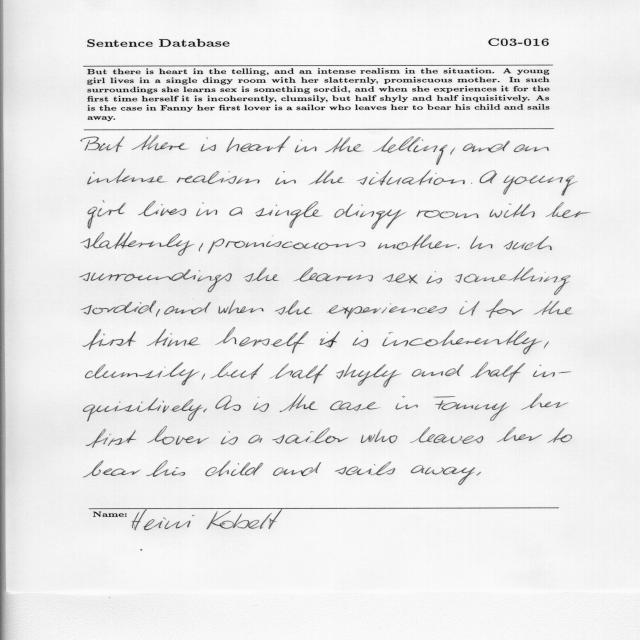word: (383, 330, 543, 354), (80, 269, 232, 292), (456, 267, 571, 295), (85, 362, 200, 386), (84, 398, 204, 421), (81, 232, 194, 256), (215, 327, 309, 353), (208, 239, 366, 254), (373, 136, 447, 165), (327, 303, 447, 319), (433, 396, 509, 421), (256, 201, 323, 228), (334, 204, 406, 229), (357, 170, 465, 185), (336, 364, 402, 388), (503, 175, 578, 196), (273, 427, 349, 444), (411, 465, 475, 485), (378, 234, 457, 250), (410, 427, 483, 444), (88, 169, 168, 184), (294, 267, 373, 282), (148, 426, 210, 445), (270, 364, 328, 384), (471, 362, 526, 383), (82, 300, 157, 315), (83, 329, 136, 350), (177, 171, 260, 184), (88, 201, 126, 229), (227, 136, 291, 152), (83, 461, 141, 478), (147, 329, 200, 347), (87, 429, 137, 448), (205, 461, 263, 477), (210, 362, 263, 379), (132, 136, 189, 151), (335, 462, 395, 476), (521, 393, 568, 410), (545, 202, 591, 218), (138, 201, 187, 216), (280, 393, 318, 412), (486, 299, 523, 318), (489, 203, 535, 218), (497, 427, 543, 442), (81, 136, 124, 152), (412, 364, 464, 377), (504, 236, 552, 250), (273, 462, 321, 476), (147, 460, 186, 477), (219, 300, 264, 314), (325, 137, 364, 153), (164, 302, 211, 315), (463, 141, 510, 153), (275, 300, 312, 315), (534, 301, 573, 315), (309, 170, 345, 185), (245, 267, 279, 282), (330, 401, 380, 411), (417, 210, 479, 218), (361, 430, 397, 443), (533, 365, 571, 377), (215, 395, 241, 411), (383, 273, 418, 284), (547, 428, 572, 443), (319, 331, 340, 348), (395, 396, 418, 410), (459, 301, 480, 316), (470, 236, 493, 249), (275, 171, 296, 185), (197, 202, 218, 216), (295, 140, 317, 153), (514, 145, 549, 153), (353, 330, 369, 347), (253, 397, 269, 412), (221, 431, 238, 445), (479, 171, 497, 184), (201, 137, 216, 152), (426, 271, 442, 284), (229, 207, 243, 216), (248, 435, 262, 443), (451, 147, 456, 155), (544, 342, 549, 349), (199, 243, 203, 251), (156, 309, 160, 317), (202, 374, 205, 380), (203, 409, 207, 413), (477, 472, 481, 476), (458, 247, 460, 249), (471, 183, 472, 184)
